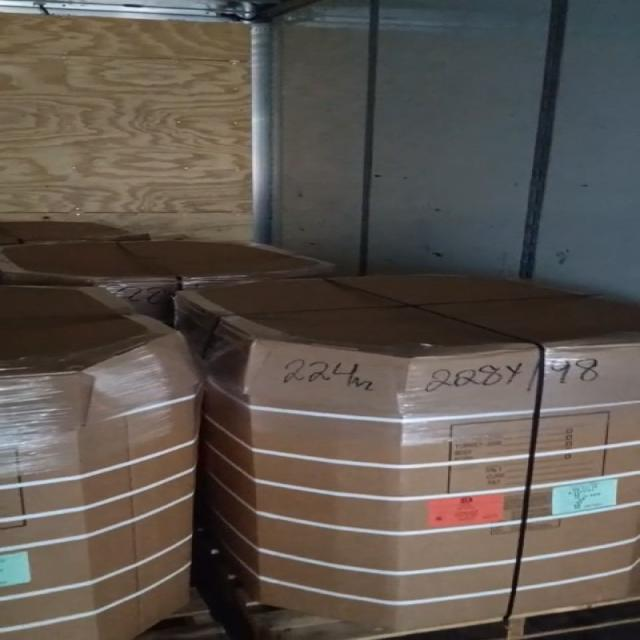pallet: (347, 597, 640, 640)
